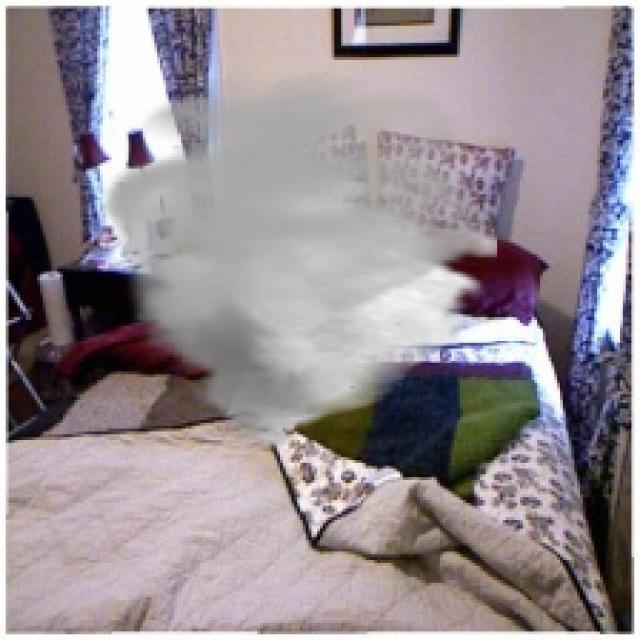smoke: (97, 69, 497, 452)
